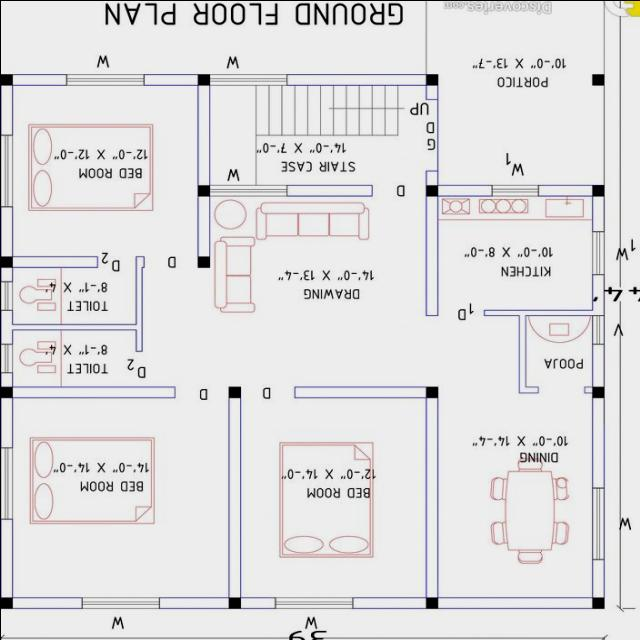Blueprint: (0, 60, 617, 623)
column: (190, 250, 216, 270), (421, 378, 443, 401), (192, 70, 214, 90), (586, 381, 608, 400), (420, 592, 440, 612), (223, 384, 246, 400), (226, 594, 246, 612), (193, 181, 213, 199), (588, 180, 606, 200), (589, 71, 609, 89), (422, 181, 441, 199), (0, 70, 17, 90), (586, 594, 607, 610), (0, 384, 18, 402), (422, 71, 441, 88), (0, 594, 17, 612), (0, 254, 18, 270)
wall: (226, 396, 242, 598), (423, 396, 438, 598), (11, 384, 176, 398), (435, 595, 592, 609), (292, 384, 428, 399), (284, 72, 427, 86), (423, 194, 439, 316), (196, 84, 212, 186), (284, 182, 373, 198), (10, 254, 99, 269), (590, 396, 604, 490), (0, 518, 14, 598), (349, 595, 426, 609), (156, 596, 228, 610), (10, 322, 136, 330), (11, 596, 82, 610), (133, 254, 143, 352), (196, 194, 211, 256), (480, 308, 592, 316), (11, 72, 68, 86), (0, 205, 15, 258), (142, 72, 198, 86), (436, 183, 492, 197), (536, 182, 592, 196), (0, 396, 14, 449), (516, 314, 526, 388), (0, 84, 14, 136), (590, 556, 605, 598), (590, 342, 604, 387), (590, 273, 604, 316), (239, 595, 276, 610), (590, 194, 604, 232), (0, 308, 13, 345), (0, 265, 15, 283), (423, 168, 438, 186), (0, 370, 13, 388), (516, 386, 538, 394)
